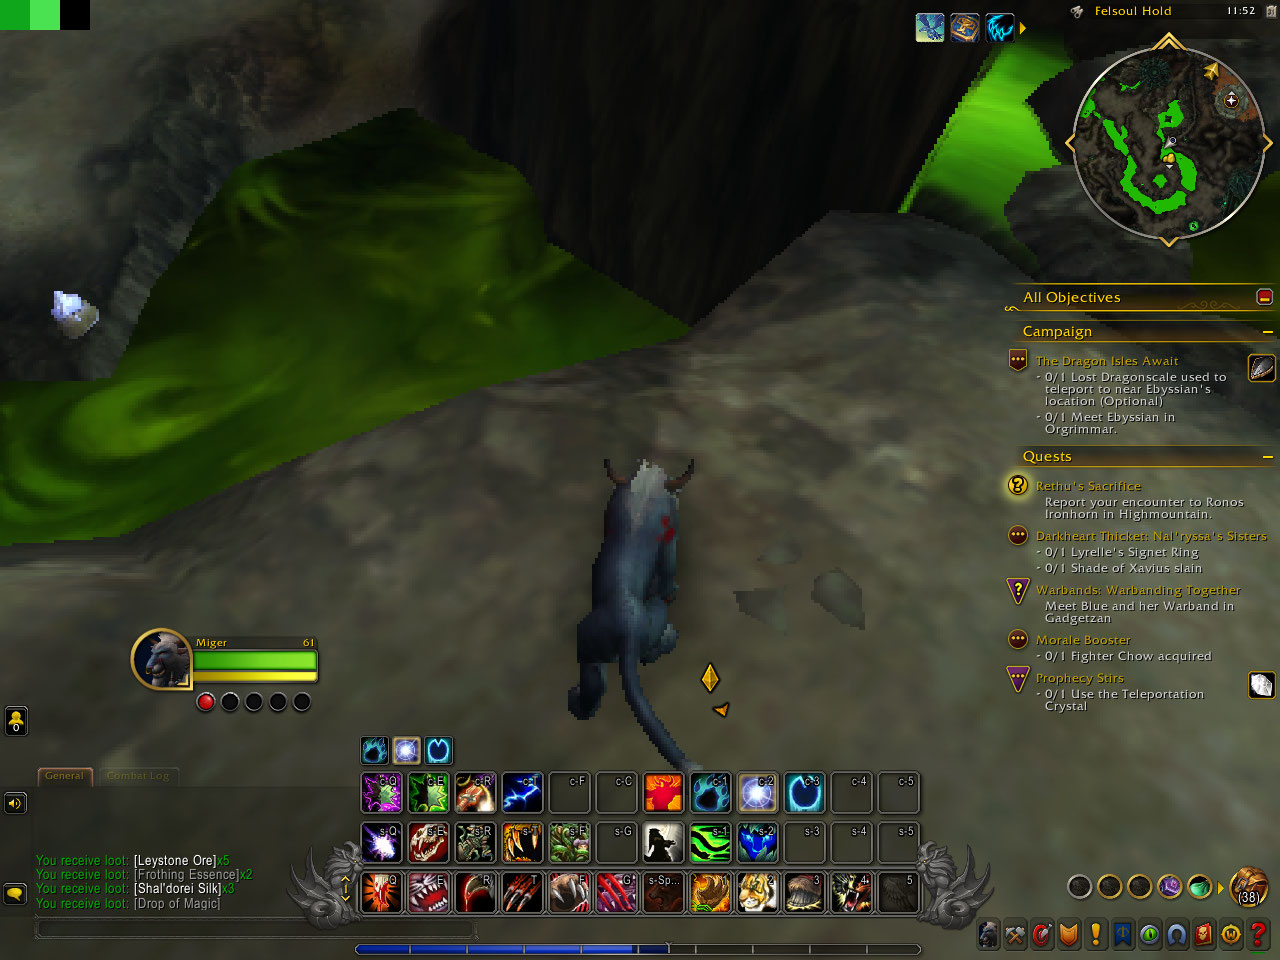ore: (44, 286, 100, 344)
